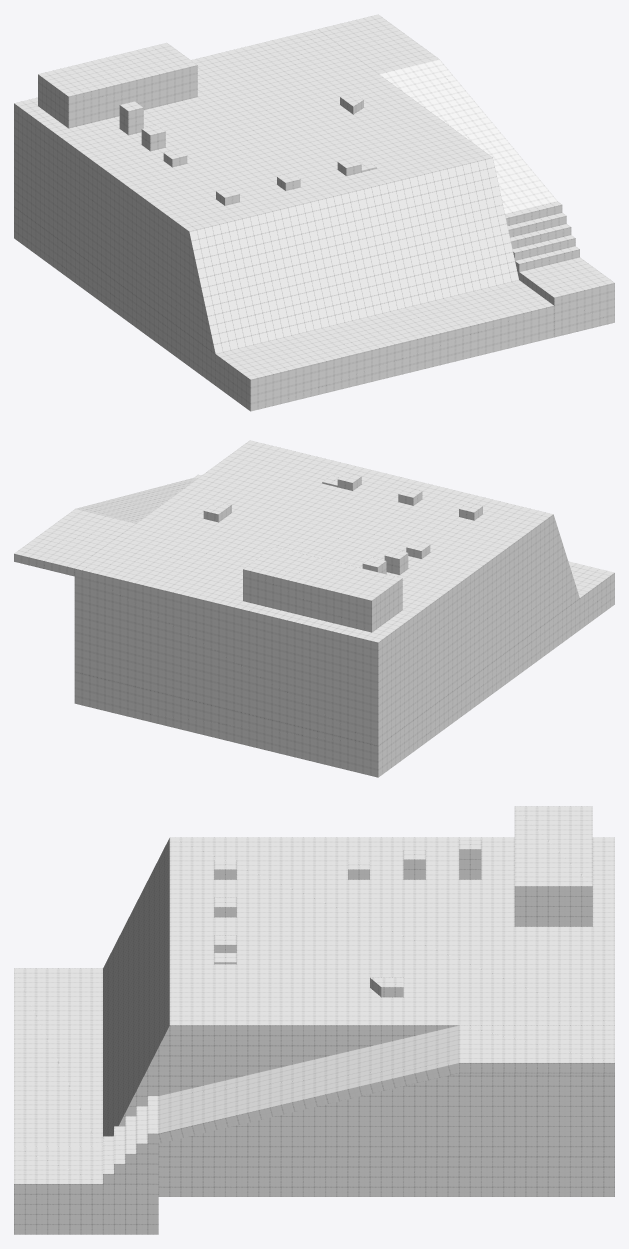
The model's file is playground.glb.
3 renders of one model, top to bottom at view 1: azimuth 30°, elevation 25°; view 2: azimuth 150°, elevation 25°; view 3: azimuth 270°, elevation 25°, orthographic. The views are drawn at different scales.
Visible parts, largest first — view 1: Floor, Cube.001, Wall, Cube.002, Cube.003; view 2: Floor, Wall, Cube.001, Cube.003; view 3: Floor, Cube.001, Wall, Cube.002, Cube.003, Cube.007.
Boxes of the visible parts, x1,y1,x2,y2 form: Floor: (14, 29, 554, 411); Cube.001: (318, 14, 614, 337); Wall: (38, 43, 197, 128); Cube.002: (119, 101, 143, 135); Cube.003: (141, 125, 165, 151); Floor: (74, 440, 614, 777); Wall: (243, 547, 402, 632); Cube.001: (14, 474, 201, 576); Cube.003: (384, 549, 408, 574); Floor: (14, 837, 614, 1196); Cube.001: (14, 1025, 614, 1234); Wall: (514, 806, 592, 926); Cube.002: (459, 840, 481, 879); Cube.003: (403, 850, 425, 879); Cube.007: (370, 977, 403, 997).
Bounding box in the file's own units: 48 × 21 × 54.
1 material, 1 textured.
